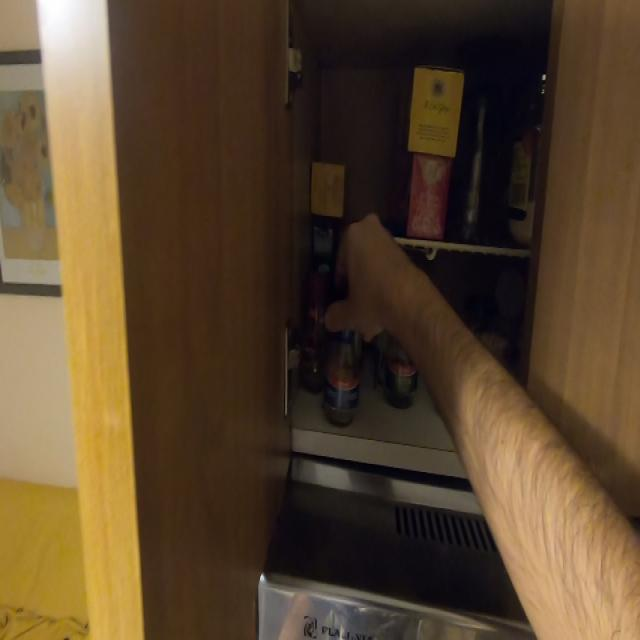right hand: (331, 214, 418, 356)
